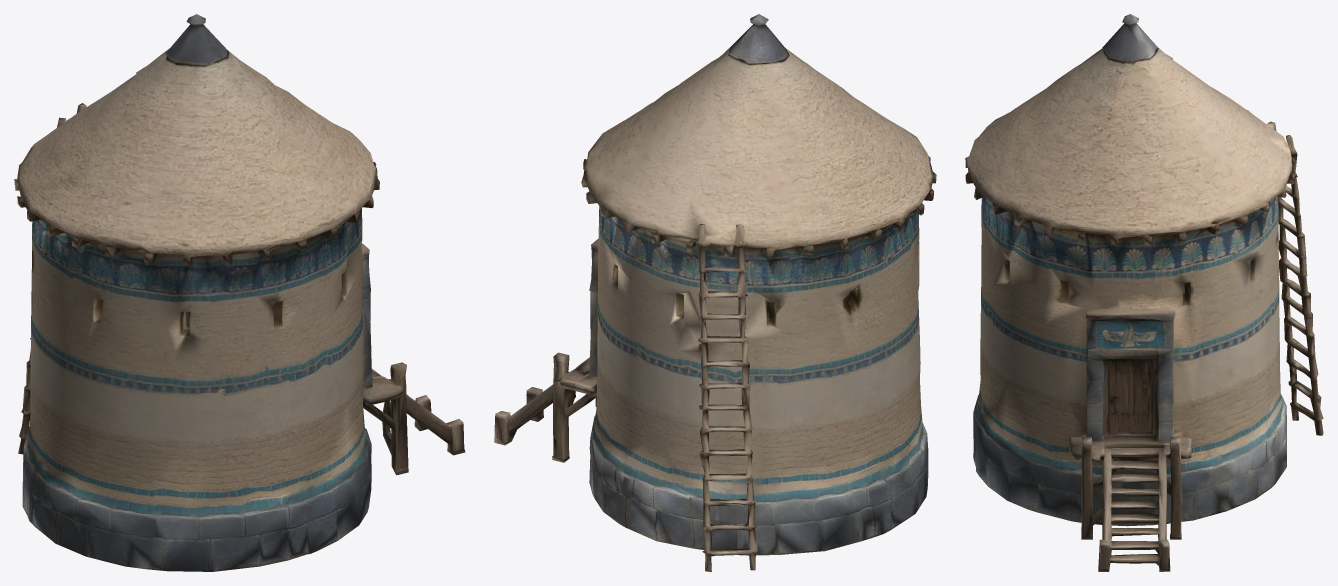
File: silo.glb
3 renders of one model, left to right at view 1: azimuth 30°, elevation 25°; view 2: azimuth 150°, elevation 25°; view 3: azimuth 270°, elevation 25°, orthographic. The views are drawn at different scales.
Visible parts, largest first — view 1: tripo_node_b4d073a9-ef92-422b-90be-38812f248ea6; view 2: tripo_node_b4d073a9-ef92-422b-90be-38812f248ea6; view 3: tripo_node_b4d073a9-ef92-422b-90be-38812f248ea6.
Boxes of the visible parts, x1,y1,x2,y2 form: tripo_node_b4d073a9-ef92-422b-90be-38812f248ea6: [14, 14, 465, 571]; tripo_node_b4d073a9-ef92-422b-90be-38812f248ea6: [494, 14, 936, 571]; tripo_node_b4d073a9-ef92-422b-90be-38812f248ea6: [965, 14, 1323, 571].
Bounding box in the file's own units: 0.8628 × 0.9789 × 0.7129.
Materials: 1 (1 with a texture image).
